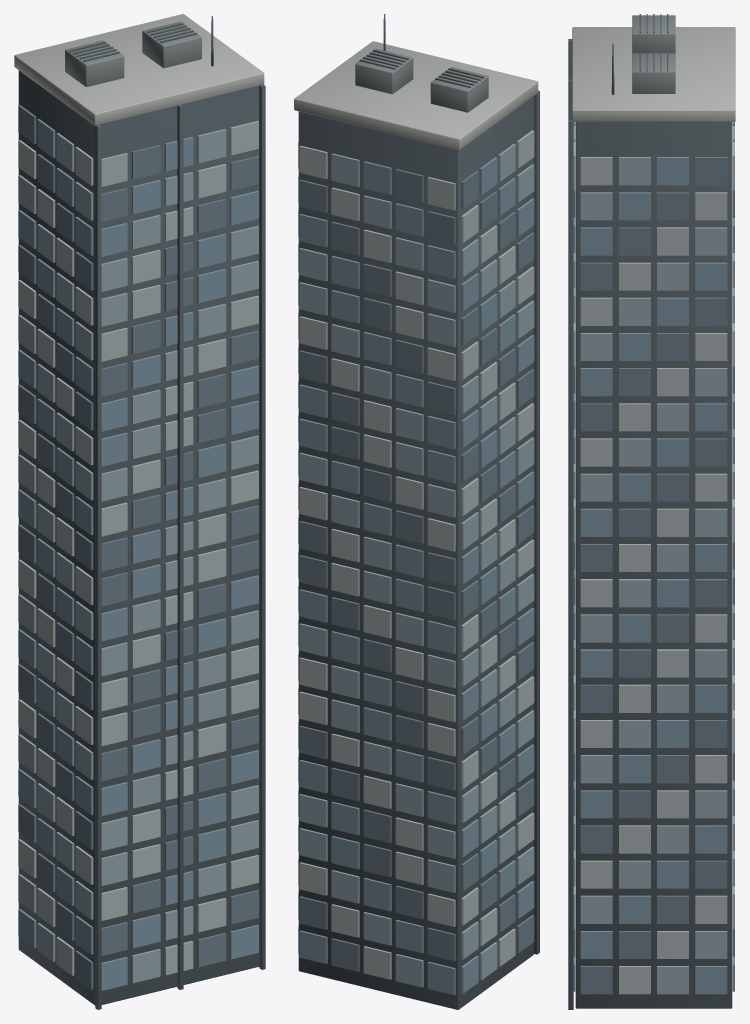
File: glass-tower-v1.glb
3 views of the same model, side by side, from view 1: azimuth 30°, elevation 25°; view 2: azimuth 150°, elevation 25°; view 3: azimuth 270°, elevation 25° (orthographic). The views are drawn at different scales.
Parts seen in each view (by area): view 1: Tower core; view 2: Tower core; view 3: Tower core.
Boxes of the visible parts, bbox=[...] form: Tower core: bbox=[14, 14, 265, 1009]; Tower core: bbox=[294, 14, 539, 1009]; Tower core: bbox=[568, 14, 735, 1009].
Size of the model in its own units: 1.45 by 7.7 by 1.23.
